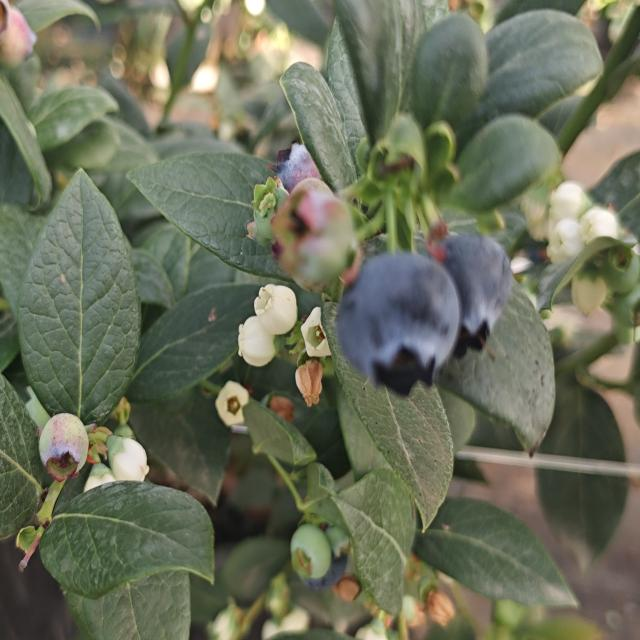ripe: (330, 245, 462, 410), (425, 200, 516, 368), (253, 136, 330, 200), (298, 546, 357, 600)
